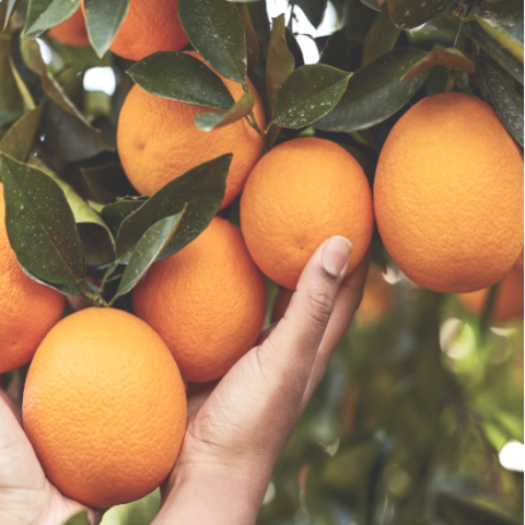orange: (6, 301, 199, 503), (349, 79, 522, 296), (233, 116, 381, 297)
